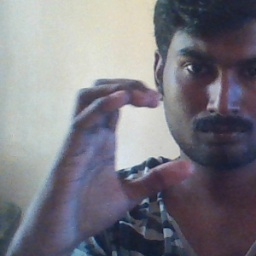C: (52, 75, 198, 206)
